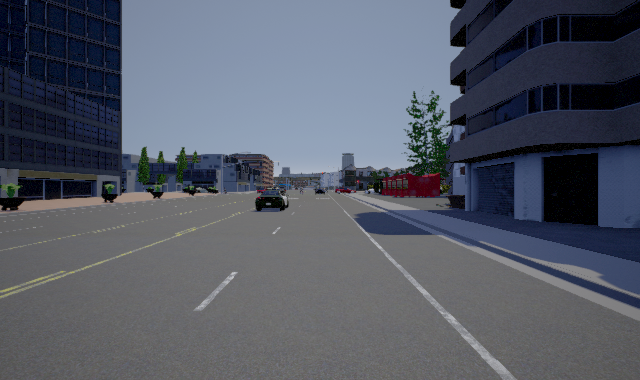vehicle: (255, 186, 289, 211)
